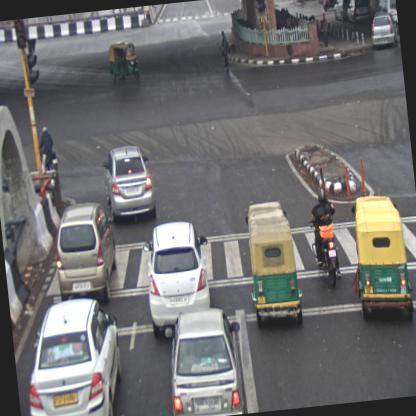car: (16, 293, 127, 415), (162, 304, 247, 415), (140, 216, 216, 340), (51, 200, 121, 306), (101, 144, 158, 230), (368, 12, 400, 52), (377, 0, 399, 37)
motorcycle: (304, 186, 343, 290), (36, 122, 57, 174)
